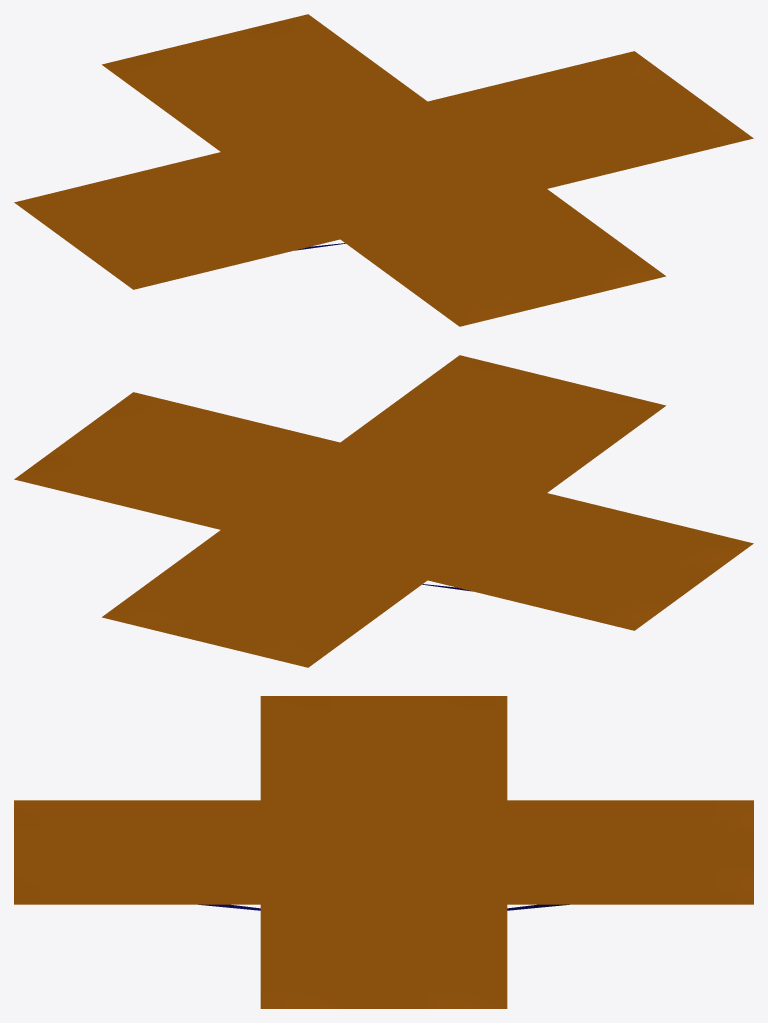
Rendered from ParacaidasAnimado.fbx.
3 renders of one model, top to bottom at view 1: azimuth 30°, elevation 25°; view 2: azimuth 150°, elevation 25°; view 3: azimuth 270°, elevation 25°, orthographic. The views are drawn at different scales.
Parts seen in each view (by area): view 1: test.001; view 2: test.001; view 3: test.001.
Part boxes in pixels (bbox=[...]): test.001: bbox=[14, 14, 753, 326]; test.001: bbox=[14, 355, 753, 667]; test.001: bbox=[14, 696, 753, 1008].
Bounding box in the file's own units: 63 × 5.67 × 63.
